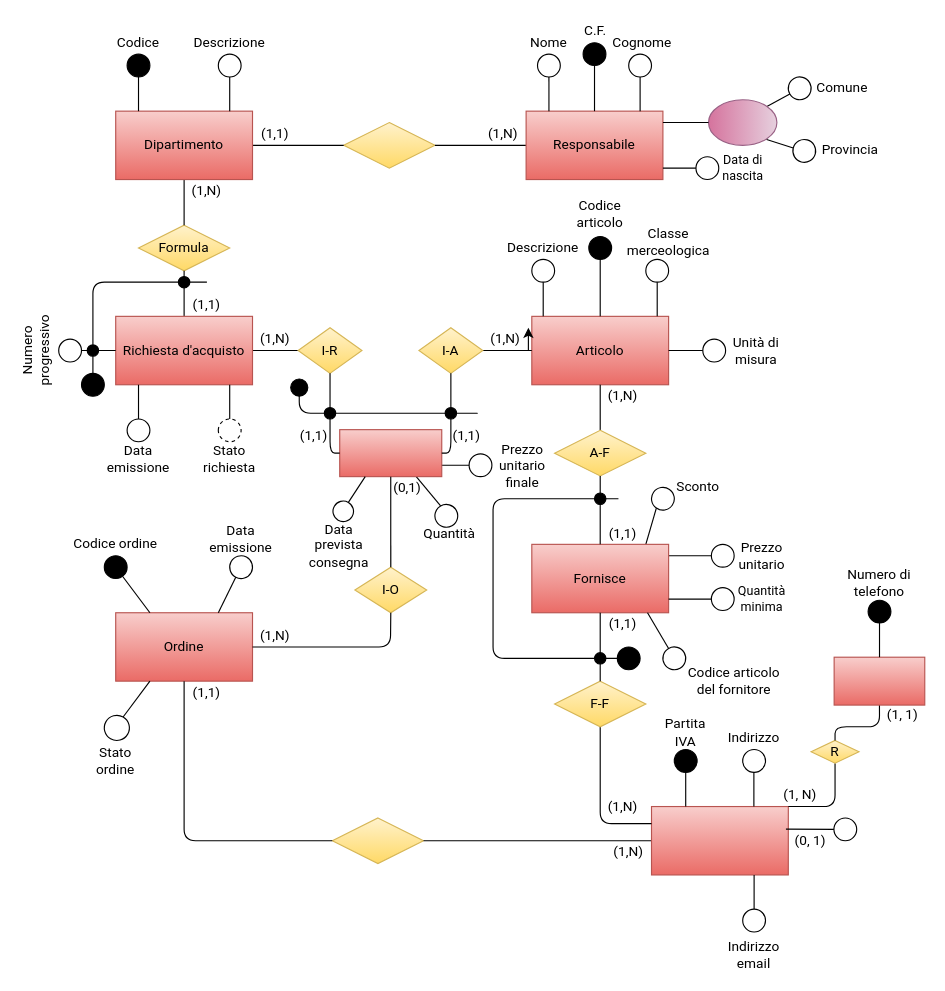
This 945x991 diagram has some shape labels left out. Each missing label, with the centre of its shape:
Evade: pixel 377 840
Fornitore: pixel 719 840
Gestisce: pixel 389 144
Include: pixel 390 453
Luogo di nascita: pixel 742 122
Recapito Telefonico: pixel 879 680
